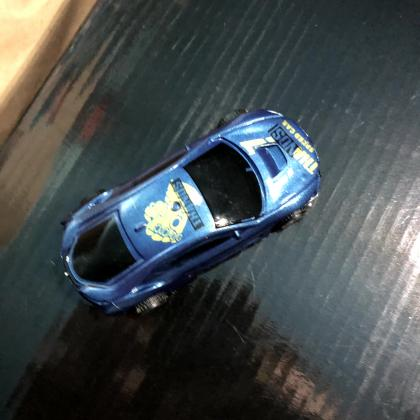Car: (57, 105, 323, 317)
